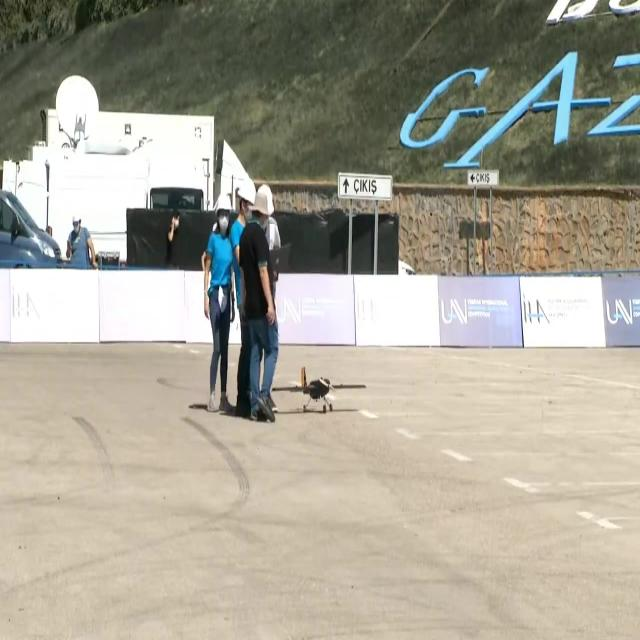iha: (302, 361, 335, 416)
